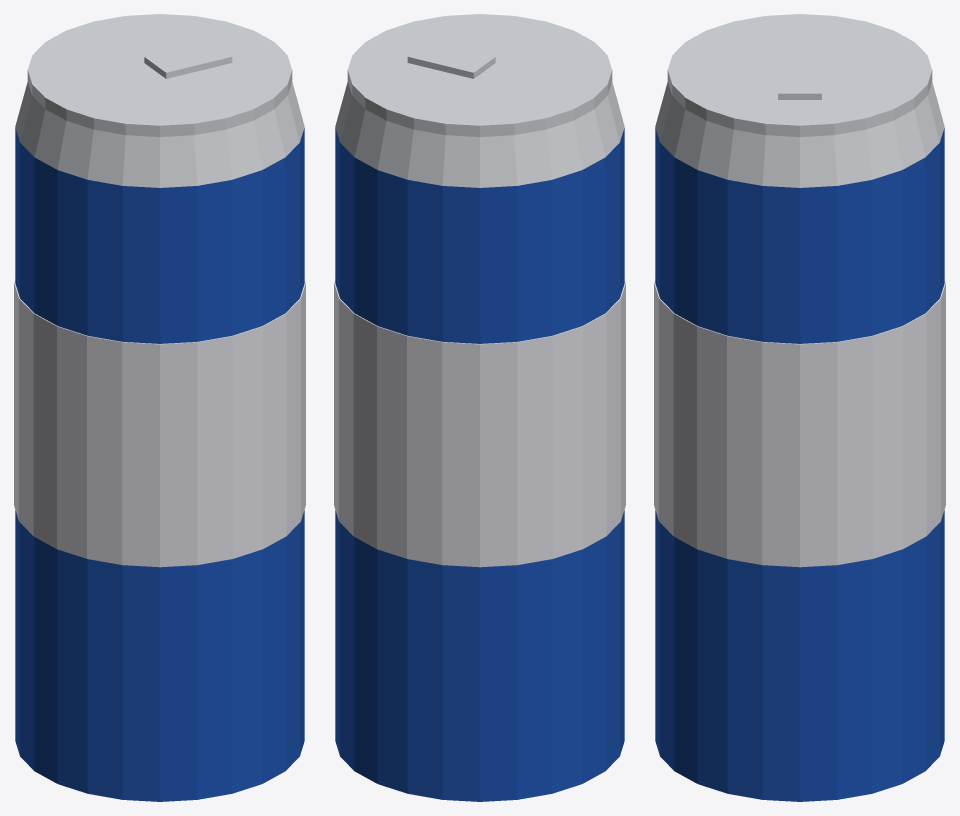
Rendered from Grocery_Energy_Drink.obj.
3 views of the same model, side by side, from view 1: azimuth 30°, elevation 25°; view 2: azimuth 150°, elevation 25°; view 3: azimuth 270°, elevation 25° (orthographic).
Visible parts, largest first — view 1: Energy_Can_Body, Energy_Can_SilverBand, Energy_Can_Lid, Energy_Can_Neck, Energy_Can_Tab; view 2: Energy_Can_Body, Energy_Can_SilverBand, Energy_Can_Lid, Energy_Can_Neck, Energy_Can_Tab; view 3: Energy_Can_Body, Energy_Can_SilverBand, Energy_Can_Lid, Energy_Can_Neck, Energy_Can_Tab.
Part boxes in pixels (<box>): Energy_Can_Body: <box>15,128,304,801</box>; Energy_Can_SilverBand: <box>14,279,305,567</box>; Energy_Can_Lid: <box>27,14,292,136</box>; Energy_Can_Neck: <box>15,81,304,187</box>; Energy_Can_Tab: <box>144,40,232,78</box>; Energy_Can_Body: <box>335,128,624,801</box>; Energy_Can_SilverBand: <box>334,279,625,567</box>; Energy_Can_Lid: <box>347,14,612,136</box>; Energy_Can_Neck: <box>335,81,624,187</box>; Energy_Can_Tab: <box>407,40,495,78</box>; Energy_Can_Body: <box>655,128,944,801</box>; Energy_Can_SilverBand: <box>654,279,945,567</box>; Energy_Can_Lid: <box>667,14,932,136</box>; Energy_Can_Neck: <box>655,81,944,187</box>; Energy_Can_Tab: <box>778,61,821,99</box>.
Size of the model in its own units: 0.0534 by 0.1367 by 0.0534.
